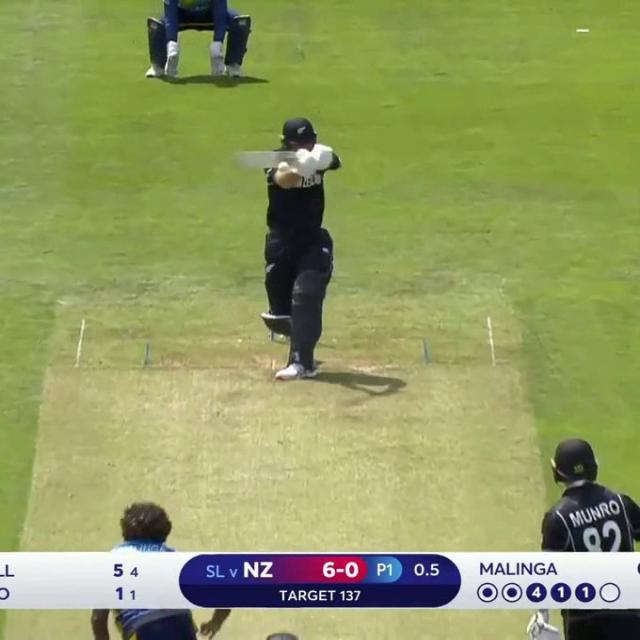bat: (238, 150, 295, 167), (531, 627, 558, 640)
toe: (236, 144, 246, 169)
